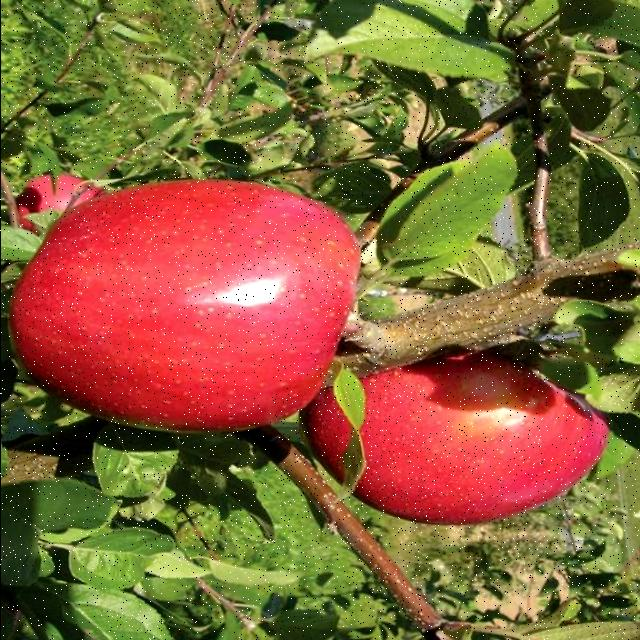HEALTHY: (0, 170, 382, 450), (317, 326, 635, 538)
